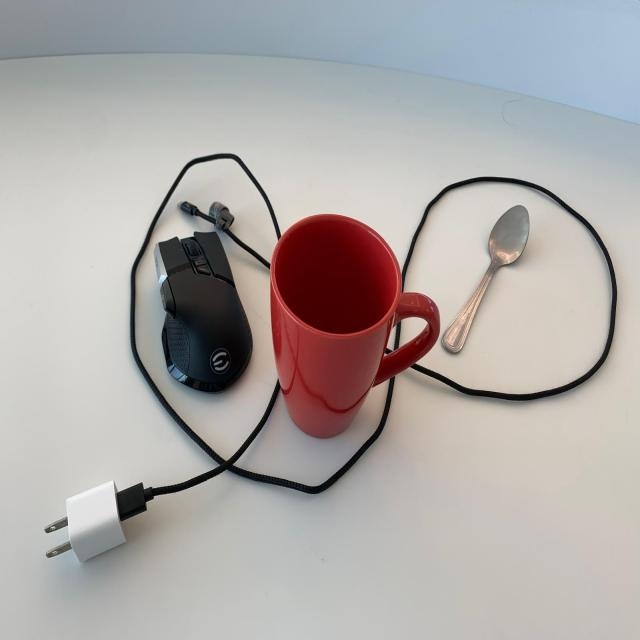Cup: (264, 190, 444, 494)
Mouse: (138, 214, 261, 422)
Spoon: (440, 196, 537, 356)
